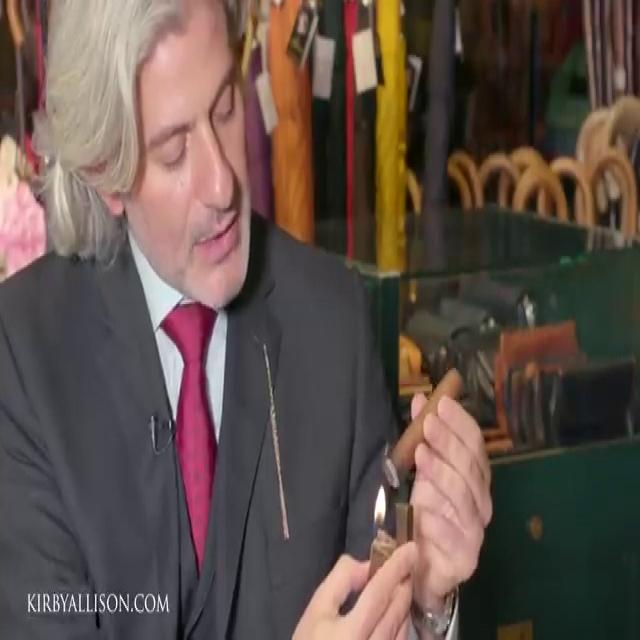Smooking: (373, 353, 473, 504)
